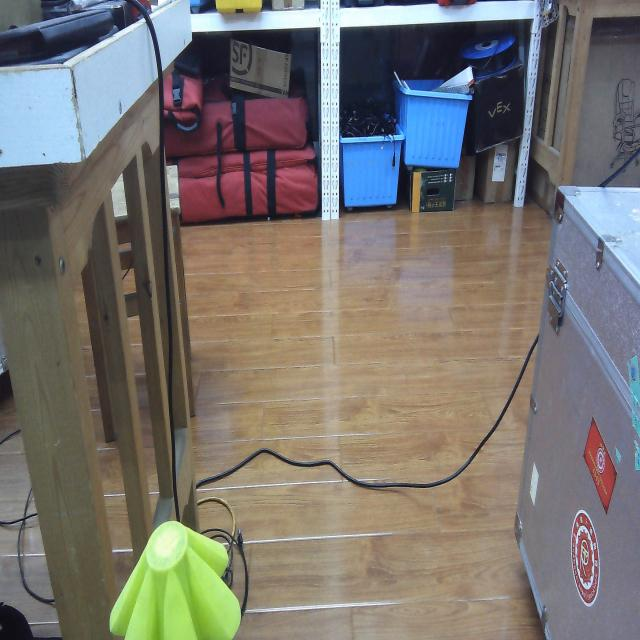Yellow-Stake-Head: (110, 520, 241, 640)
